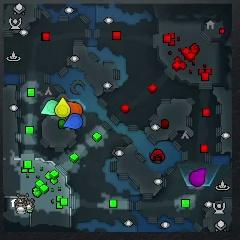p1: (63, 114, 83, 129)
p2: (41, 99, 59, 115)
p3: (189, 168, 206, 186)
p4: (55, 98, 70, 117)
p5: (66, 100, 83, 116)
